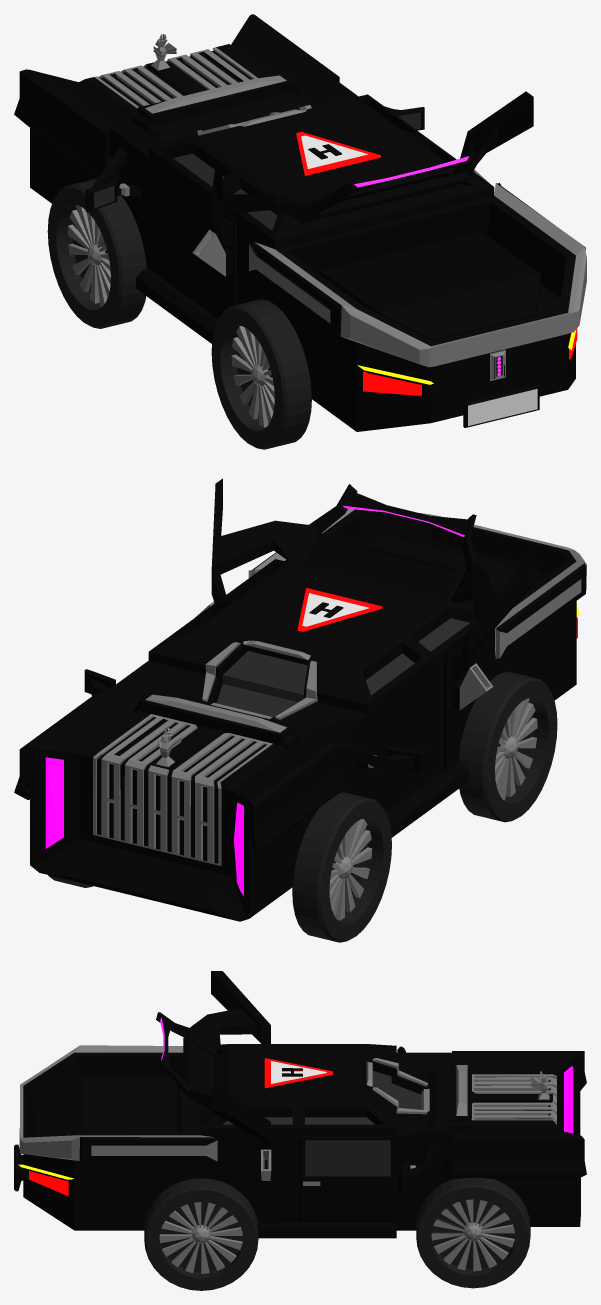
The model's file is RolllsRoiiiiisss12.fbx.
The picture shows the model from 3 angles, top to bottom: view 1: azimuth 30°, elevation 25°; view 2: azimuth 150°, elevation 25°; view 3: azimuth 270°, elevation 25°; orthographic projection. The views are drawn at different scales.
Visible parts, largest first — view 1: Cube.002, Cube.006, Cube.005; view 2: Cube.002, Cube.005, Cube.006; view 3: Cube.002, Cube.007, Cube.004.
Part boxes in pixels (x1,y1,x2,y2): Cube.002: (14,14,586,431); Cube.006: (211,299,311,449); Cube.005: (47,178,146,328); Cube.002: (14,478,586,921); Cube.005: (292,792,391,942); Cube.006: (459,671,557,822); Cube.002: (14,971,586,1238); Cube.007: (144,1178,258,1290); Cube.004: (416,1177,530,1288).
Size of the model in its own units: 309 by 238 by 585.
